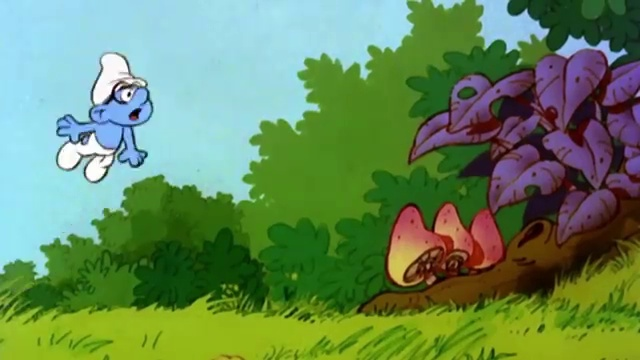smurf: (53, 51, 154, 183)
